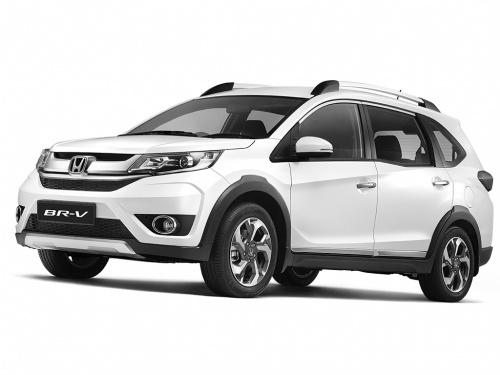Car hood: (43, 132, 258, 159)
Fender - -F-L-: (208, 132, 297, 217)
Fender - -R-L-: (441, 149, 489, 226)
Front bumper: (14, 167, 231, 266)
Headlight - -L-: (126, 148, 224, 178)
Passenger-s door - -F-L-: (288, 92, 381, 262)
Passenger-s door - -R-L-: (358, 91, 455, 266)
Rear bumper: (463, 208, 498, 269)
Rear light - -L-: (475, 169, 495, 195)
Side bumper - -L-: (283, 240, 439, 281)
Side mirror - -L-: (295, 137, 334, 158)
